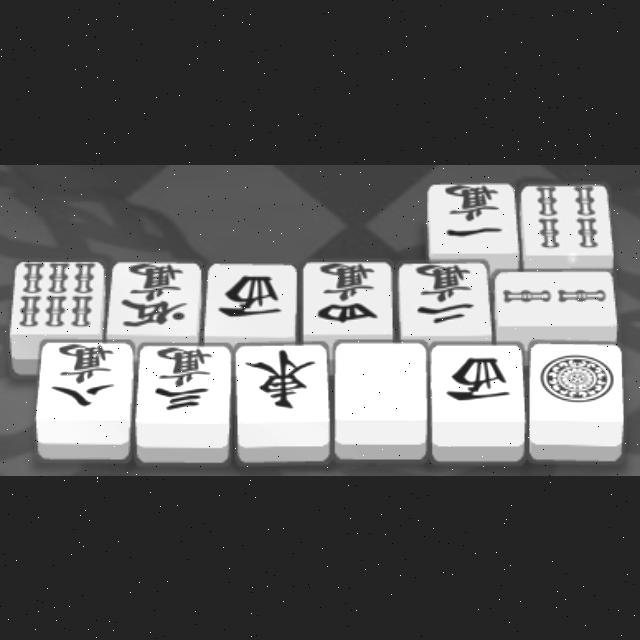1m: (425, 183, 517, 257)
1p: (528, 342, 624, 458)
2m: (399, 263, 487, 339)
2s: (494, 268, 620, 336)
3m: (136, 343, 228, 459)
4m: (303, 262, 389, 338)
4s: (522, 182, 610, 264)
5m: (109, 260, 201, 340)
6s: (14, 260, 104, 336)
8m: (38, 343, 130, 457)
haku: (335, 342, 429, 456), (531, 406, 621, 424)
sha: (431, 345, 523, 455), (208, 262, 298, 340)
tou: (234, 348, 328, 458)
